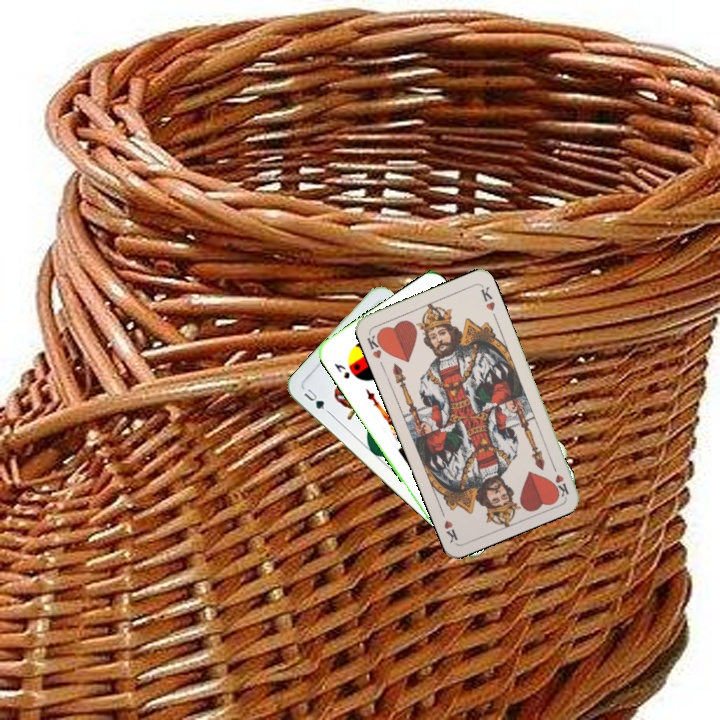GU: (300, 384, 332, 416)
HK: (547, 459, 571, 499), (363, 329, 388, 361)
SK: (330, 359, 352, 381)
